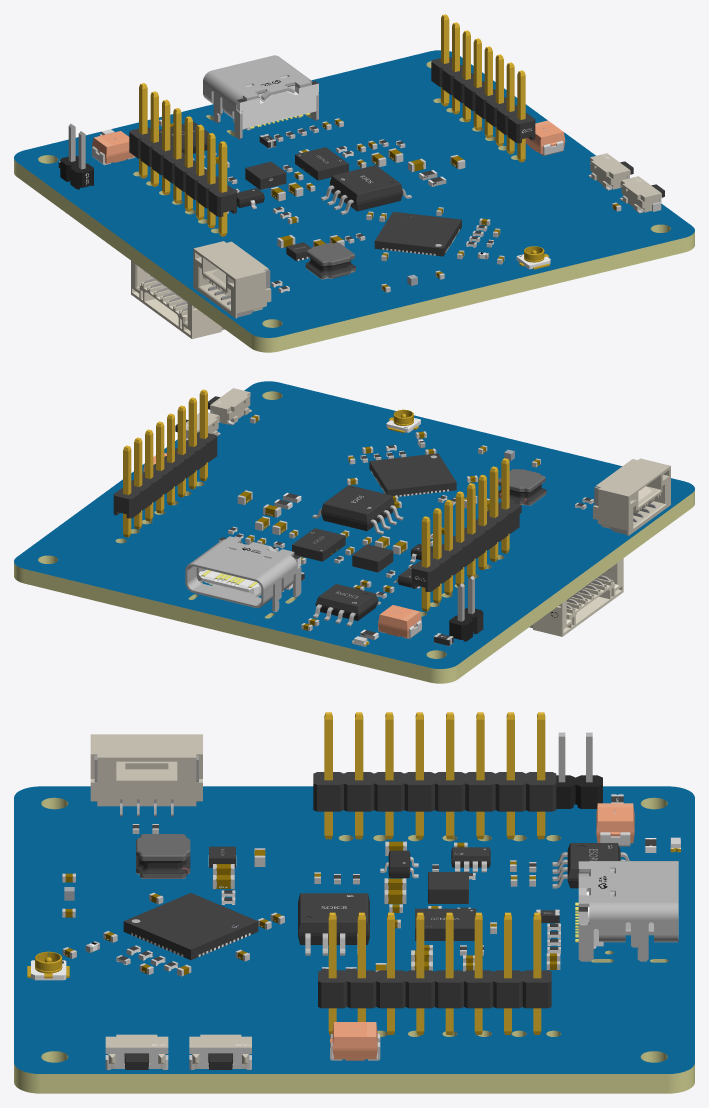
The model's file is bottom.glb.
3 views of the same model, one above another, from view 1: azimuth 30°, elevation 25°; view 2: azimuth 150°, elevation 25°; view 3: azimuth 270°, elevation 25° (orthographic). The views are drawn at different scales.
Visible parts, largest first — view 1: pcb, bottom-z0, bottom-z1, bottom-z2, bottom-z3; view 2: pcb, bottom-z0, bottom-z1, bottom-z2, bottom-z3; view 3: pcb, bottom-z0, bottom-z1, bottom-z2, bottom-z3.
Part boxes in pixels (left/top/right/bottom): pcb: left=14, top=50, right=694, bottom=352; bottom-z0: left=58, top=14, right=506, bottom=189; bottom-z1: left=60, top=91, right=311, bottom=338; bottom-z2: left=270, top=62, right=565, bottom=292; bottom-z3: left=477, top=153, right=664, bottom=269; pcb: left=14, top=381, right=694, bottom=683; bottom-z0: left=113, top=405, right=453, bottom=646; bottom-z1: left=397, top=458, right=670, bottom=641; bottom-z2: left=143, top=389, right=546, bottom=554; bottom-z3: left=175, top=388, right=426, bottom=453; pcb: left=14, top=786, right=694, bottom=1093; bottom-z0: left=376, top=712, right=680, bottom=1034; bottom-z1: left=90, top=712, right=602, bottom=884; bottom-z2: left=62, top=834, right=406, bottom=1060; bottom-z3: left=27, top=941, right=251, bottom=1069.
Size of the model in its own units: 50.47 by 15.87 by 49.98.
